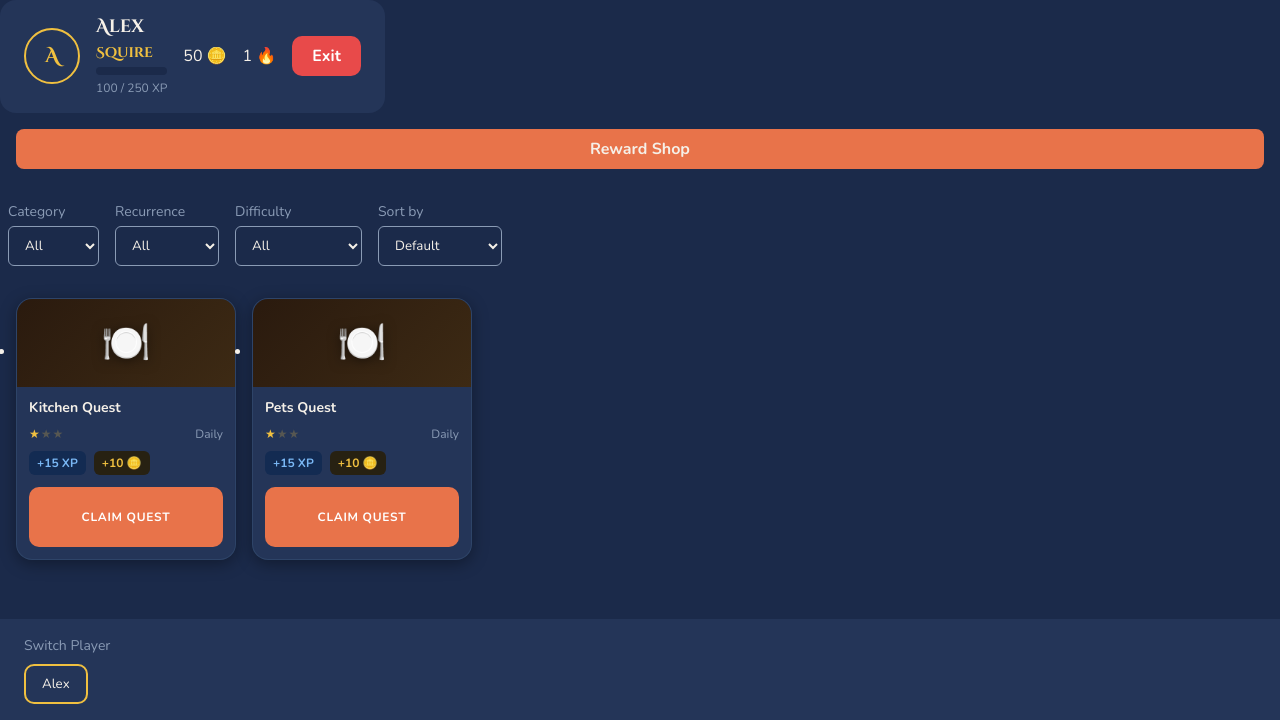
Test: QuestBoard — integration tests › filters quests by category — only matching category visible
Select "Kitchen" in the dropdown labelled "Category" at (54, 246), box [8,226,99,266]
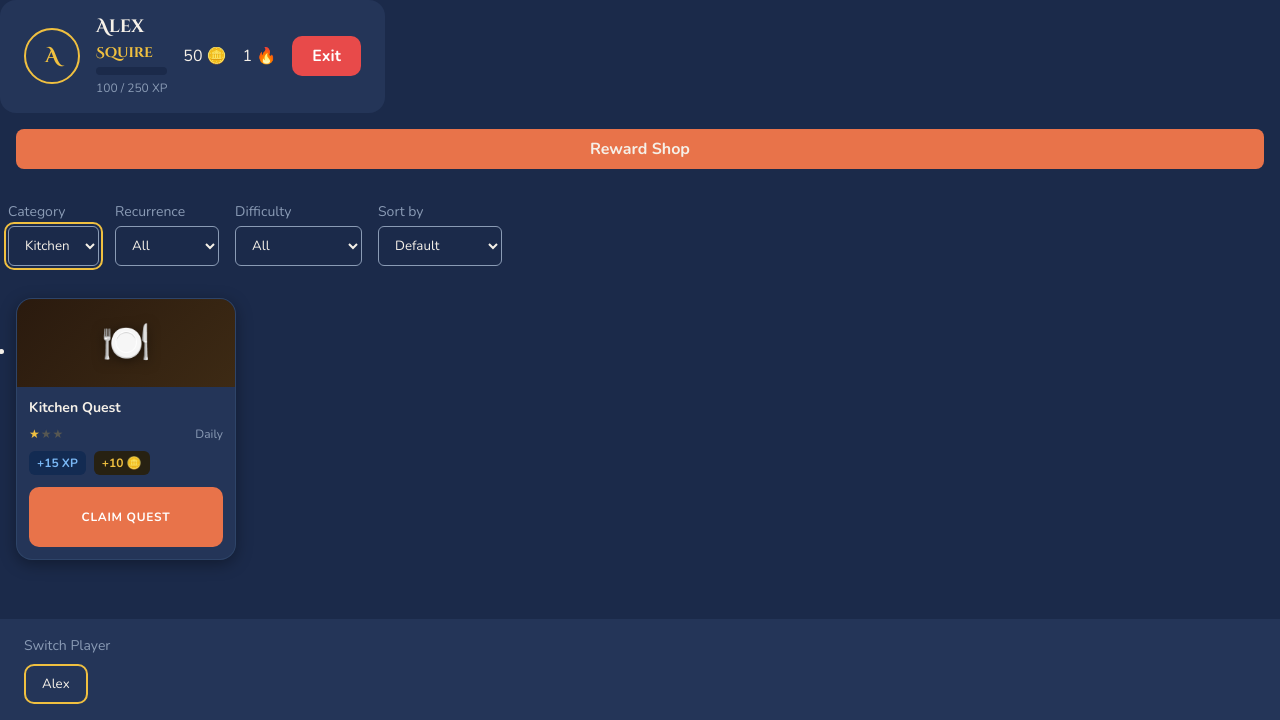
Expected: the heading "Kitchen Quest" is shown, [29,398,121,417]
Expected: the heading "Pets Quest" is gone
